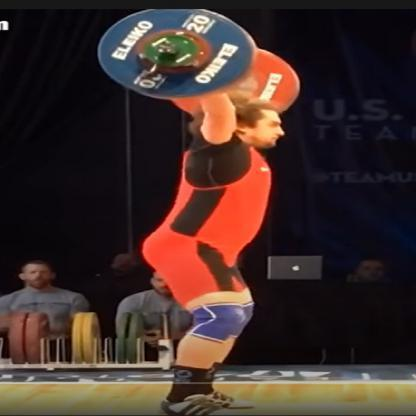barbell: (96, 6, 301, 119)
